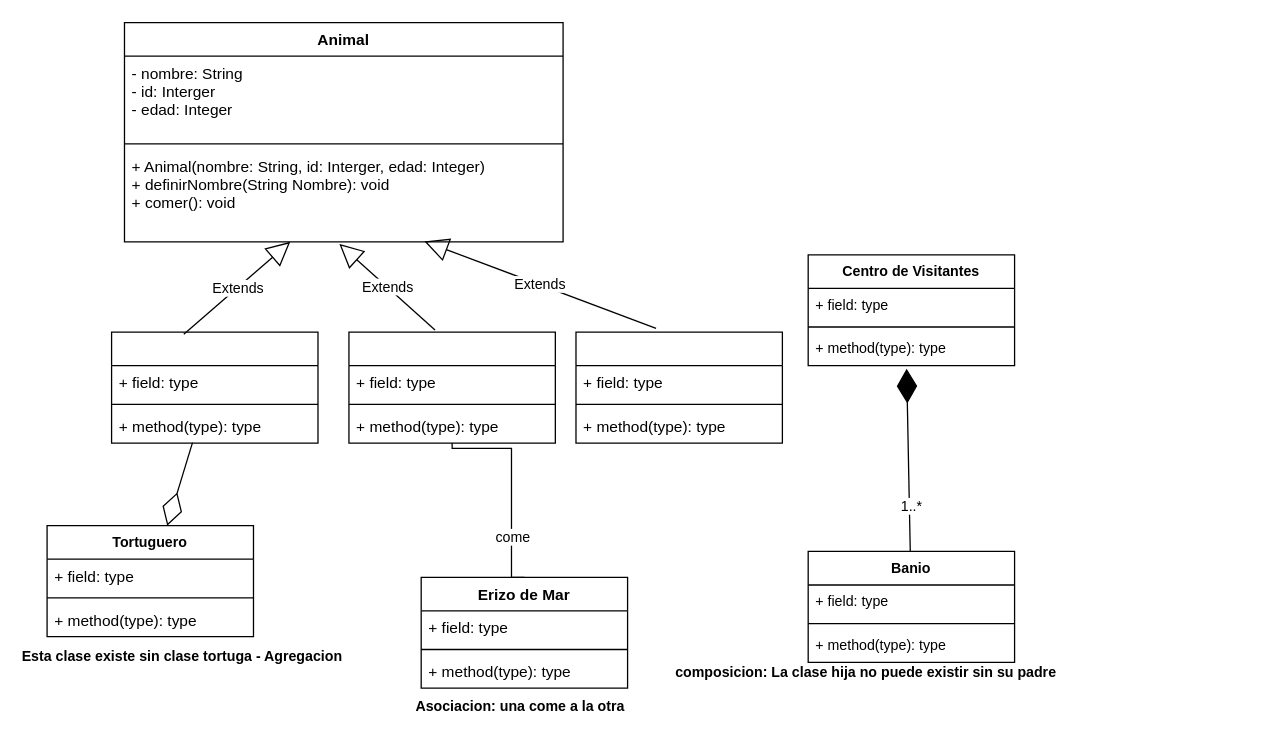
The diagram is 1267 pixels wide and 742 high, and some of its shapes have lost their labels. Each missing label, with the box of its shape:
Loris: (575, 331, 782, 443)
Nutria: (348, 331, 555, 443)
Tortuga: (110, 331, 318, 443)
